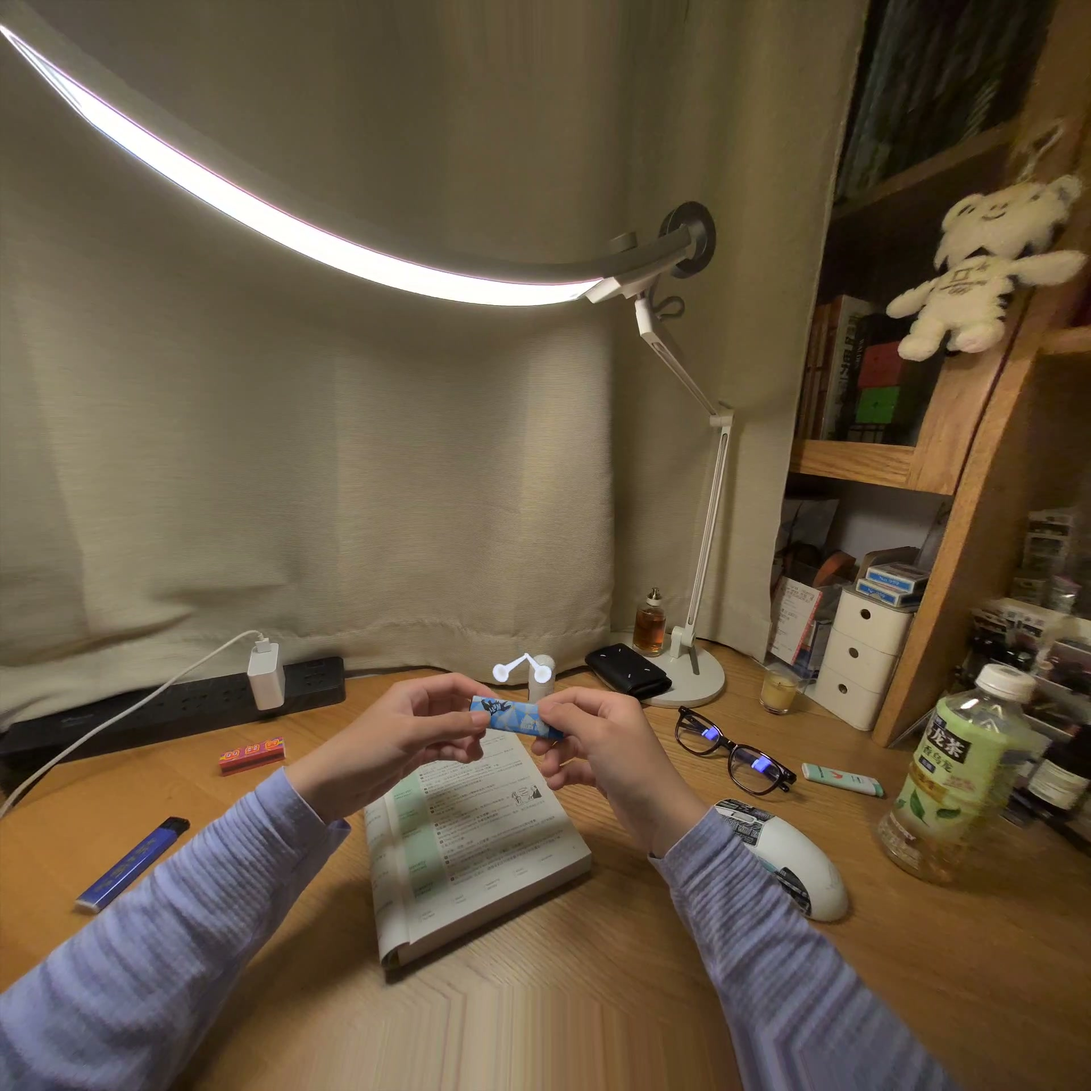lighter: (470, 696, 562, 740)
